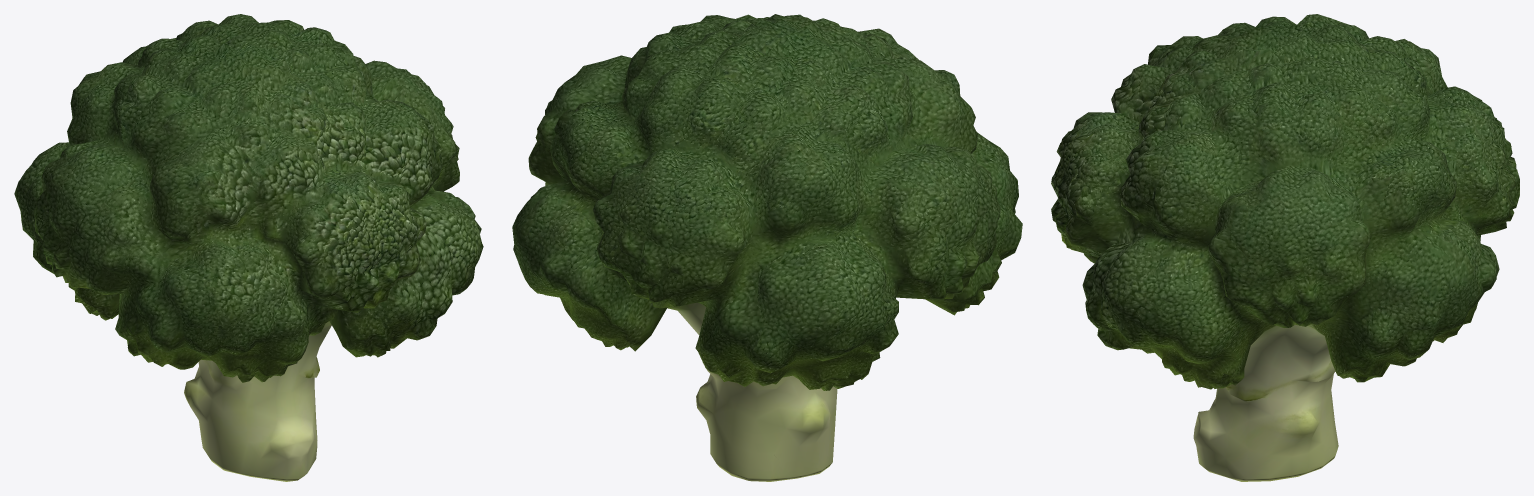
3 renders of one model, left to right at view 1: azimuth 30°, elevation 25°; view 2: azimuth 150°, elevation 25°; view 3: azimuth 270°, elevation 25°, orthographic. The views are drawn at different scales.
Visible parts, largest first — view 1: Broccoli; view 2: Broccoli; view 3: Broccoli.
Part boxes in pixels (<box>): Broccoli: <box>14,14,483,481</box>; Broccoli: <box>512,14,1022,481</box>; Broccoli: <box>1051,14,1519,481</box>.
Size of the model in its own units: 0.9941 by 0.998 by 0.9902.
Materials: 1 (1 with a texture image).
